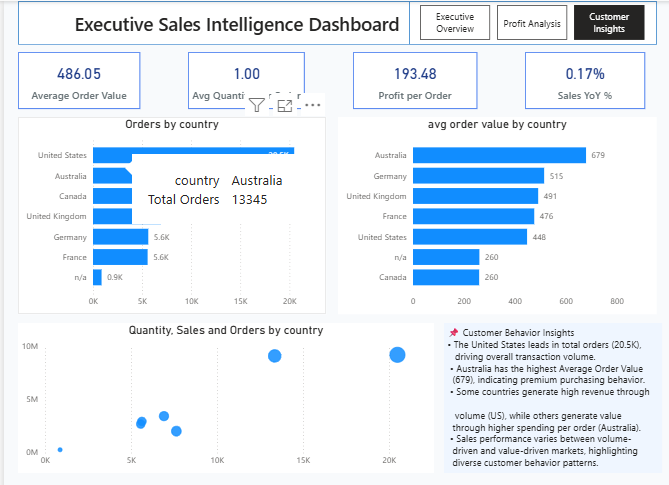

The dashboard page shown, as its layout file describes it:
{"tool":"powerbi","page":{"name":"Customer Insights","canvas":[960,720],"ordinal":2},"visuals":[{"type":"shape","box":[583.2,0,357.1,63.4],"z":0,"group":"g1"},{"type":"card","fields":{"Values":["_measures.Average Order Value"]},"box":[20.2,73.4,175.7,82.1],"z":0},{"type":"pageNavigator","box":[599.1,5.8,324.1,50.4],"z":1000,"group":"g1"},{"type":"card","fields":{"Values":["_measures.Avg Quantity per Order"]},"box":[265,73.4,168.5,82.1],"z":1000},{"type":"card","fields":{"Values":["_measures.Profit per Order"]},"box":[502.6,73.4,178.6,82.1],"z":2000},{"type":"card","fields":{"Values":["_measures.Sales YoY %"]},"box":[750.2,73.4,172.8,82.1],"z":3000},{"type":"textbox","box":[633.6,463.7,313.9,216],"z":4000},{"type":"shape","box":[20.2,0,920.2,63.4],"z":5000},{"type":"textbox","box":[96.5,8.6,558.7,47.5],"z":6000},{"type":"barChart","title":"Orders by country","fields":{"Category":["gold dim_customers.country"],"Y":["_measures.Total Orders"]},"box":[20.2,167,443.5,283.7],"z":7000},{"type":"barChart","title":"avg order value by country","fields":{"Category":["gold dim_customers.country"],"Y":["_measures.Average Order Value"]},"box":[481,167,459.4,283.7],"z":8000},{"type":"scatterChart","title":"Quantity, Sales and Orders by country","fields":{"X":["_measures.Total Quantity"],"Y":["_measures.Total Sales"],"Category":["gold dim_customers.country"],"Size":["_measures.Total Orders"]},"box":[20.2,463.7,599,216],"z":9000},{"type":"group","id":"g1","title":"Group 1","box":[583.2,0,357.1,63.4],"z":10000}]}

Visuals, with their boxes on the page's 960x720 design canvas (x1, y1, x2, y2). These are canvas units, not pixel positions in the 669x485 screenshot, which may show the page scaled, cropped or inside an application window:
shape: BBox(583, 0, 940, 63)
card - _measures.Average Order Value: BBox(20, 73, 196, 156)
pageNavigator: BBox(599, 6, 923, 56)
card - _measures.Avg Quantity per Order: BBox(265, 73, 434, 156)
card - _measures.Profit per Order: BBox(503, 73, 681, 156)
card - _measures.Sales YoY %: BBox(750, 73, 923, 156)
textbox: BBox(634, 464, 948, 680)
shape: BBox(20, 0, 940, 63)
textbox: BBox(96, 9, 655, 56)
"Orders by country" barChart: BBox(20, 167, 464, 451)
"avg order value by country" barChart: BBox(481, 167, 940, 451)
"Quantity, Sales and Orders by country" scatterChart: BBox(20, 464, 619, 680)
"Group 1" group: BBox(583, 0, 940, 63)
